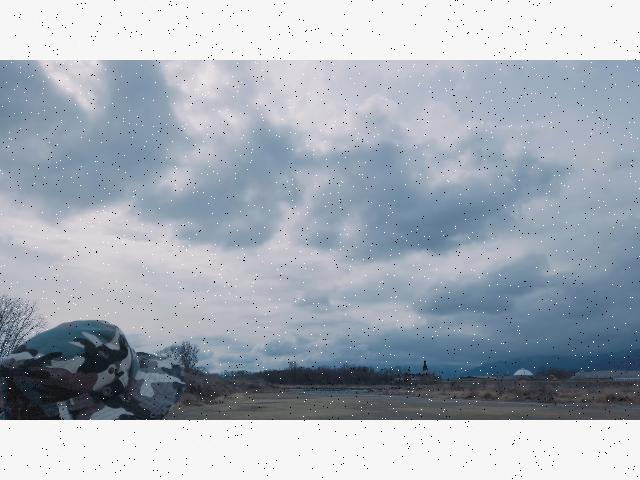Anti-Drone: (288, 293, 300, 305)
